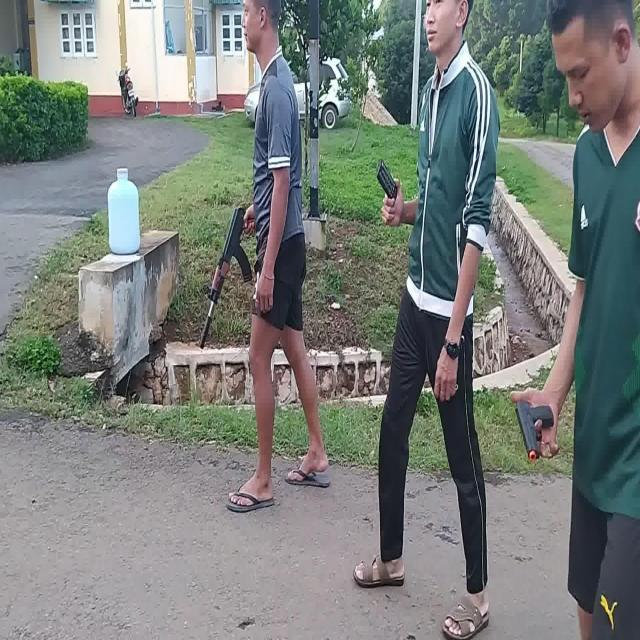gun: (202, 208, 256, 349), (515, 402, 553, 459)
